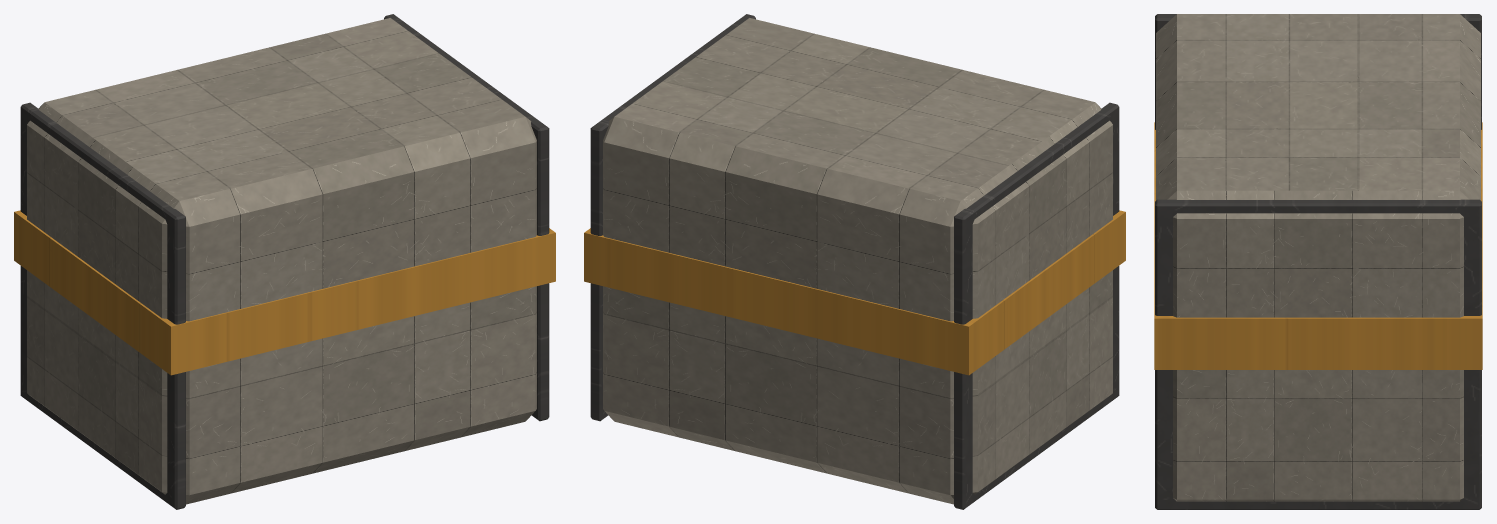
File: prop_crate_l.obj
3 views of the same model, side by side, from view 1: azimuth 30°, elevation 25°; view 2: azimuth 150°, elevation 25°; view 3: azimuth 270°, elevation 25° (orthographic). The views are drawn at different scales.
Visible parts, largest first — view 1: prop_crate_l; view 2: prop_crate_l; view 3: prop_crate_l.
Boxes of the visible parts, box(x1,y1,x2,y2) form: prop_crate_l: box(14, 14, 555, 509); prop_crate_l: box(584, 14, 1125, 509); prop_crate_l: box(1154, 14, 1482, 509).
Size of the model in its own units: 1.72 by 1.3 by 1.21.
Materials: 1 (1 with a texture image).
